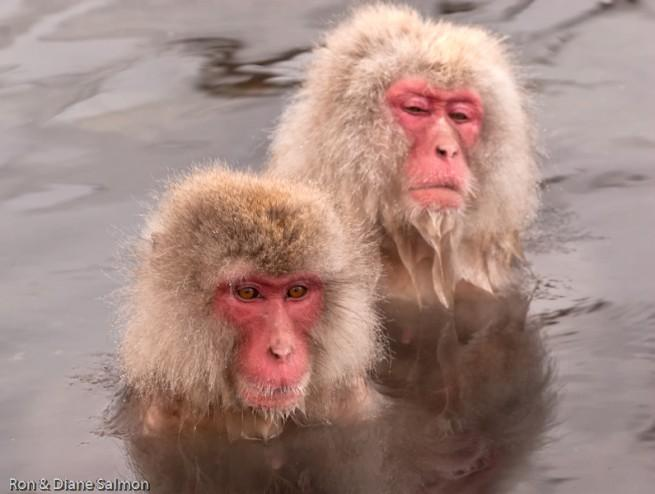monkey: (110, 7, 554, 494)
